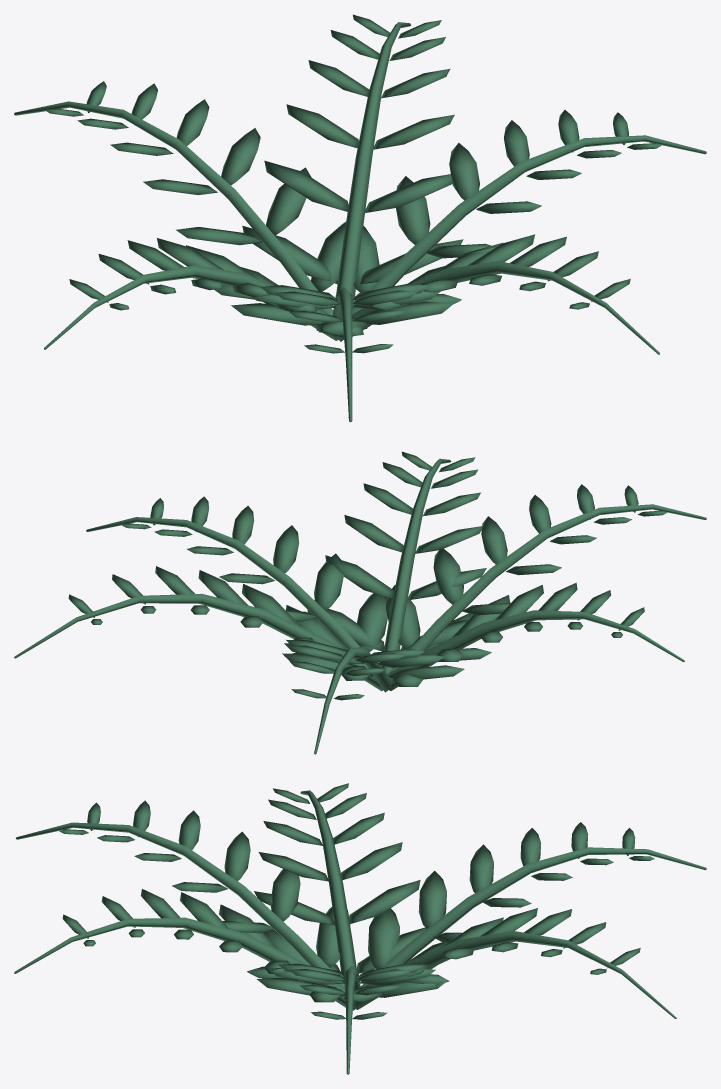
File: fern.glb
3 renders of one model, top to bottom at view 1: azimuth 30°, elevation 25°; view 2: azimuth 150°, elevation 25°; view 3: azimuth 270°, elevation 25°, orthographic. The views are drawn at different scales.
Visible parts, largest first — view 1: Fern; view 2: Fern; view 3: Fern.
Part boxes in pixels (x1,y1,x2,y2): Fern: (14,14,706,422); Fern: (14,451,706,754); Fern: (14,783,706,1074).
Bounding box in the file's own units: 0.9658 × 0.2249 × 0.979.
